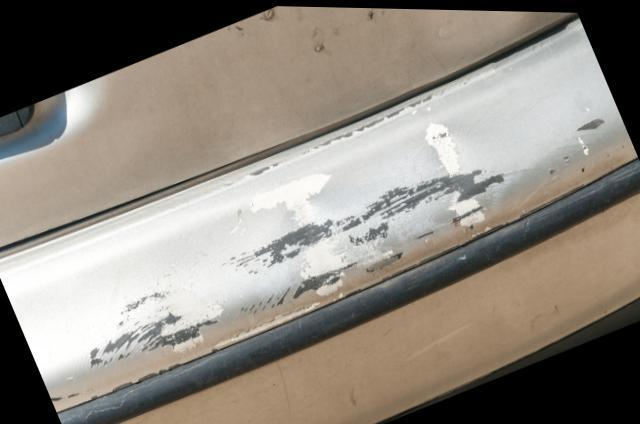scratch: (77, 110, 615, 380)
